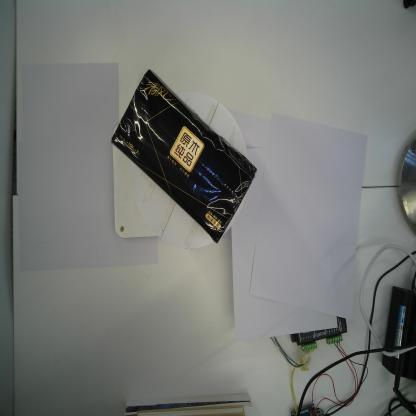Tissue: (110, 66, 259, 246)
